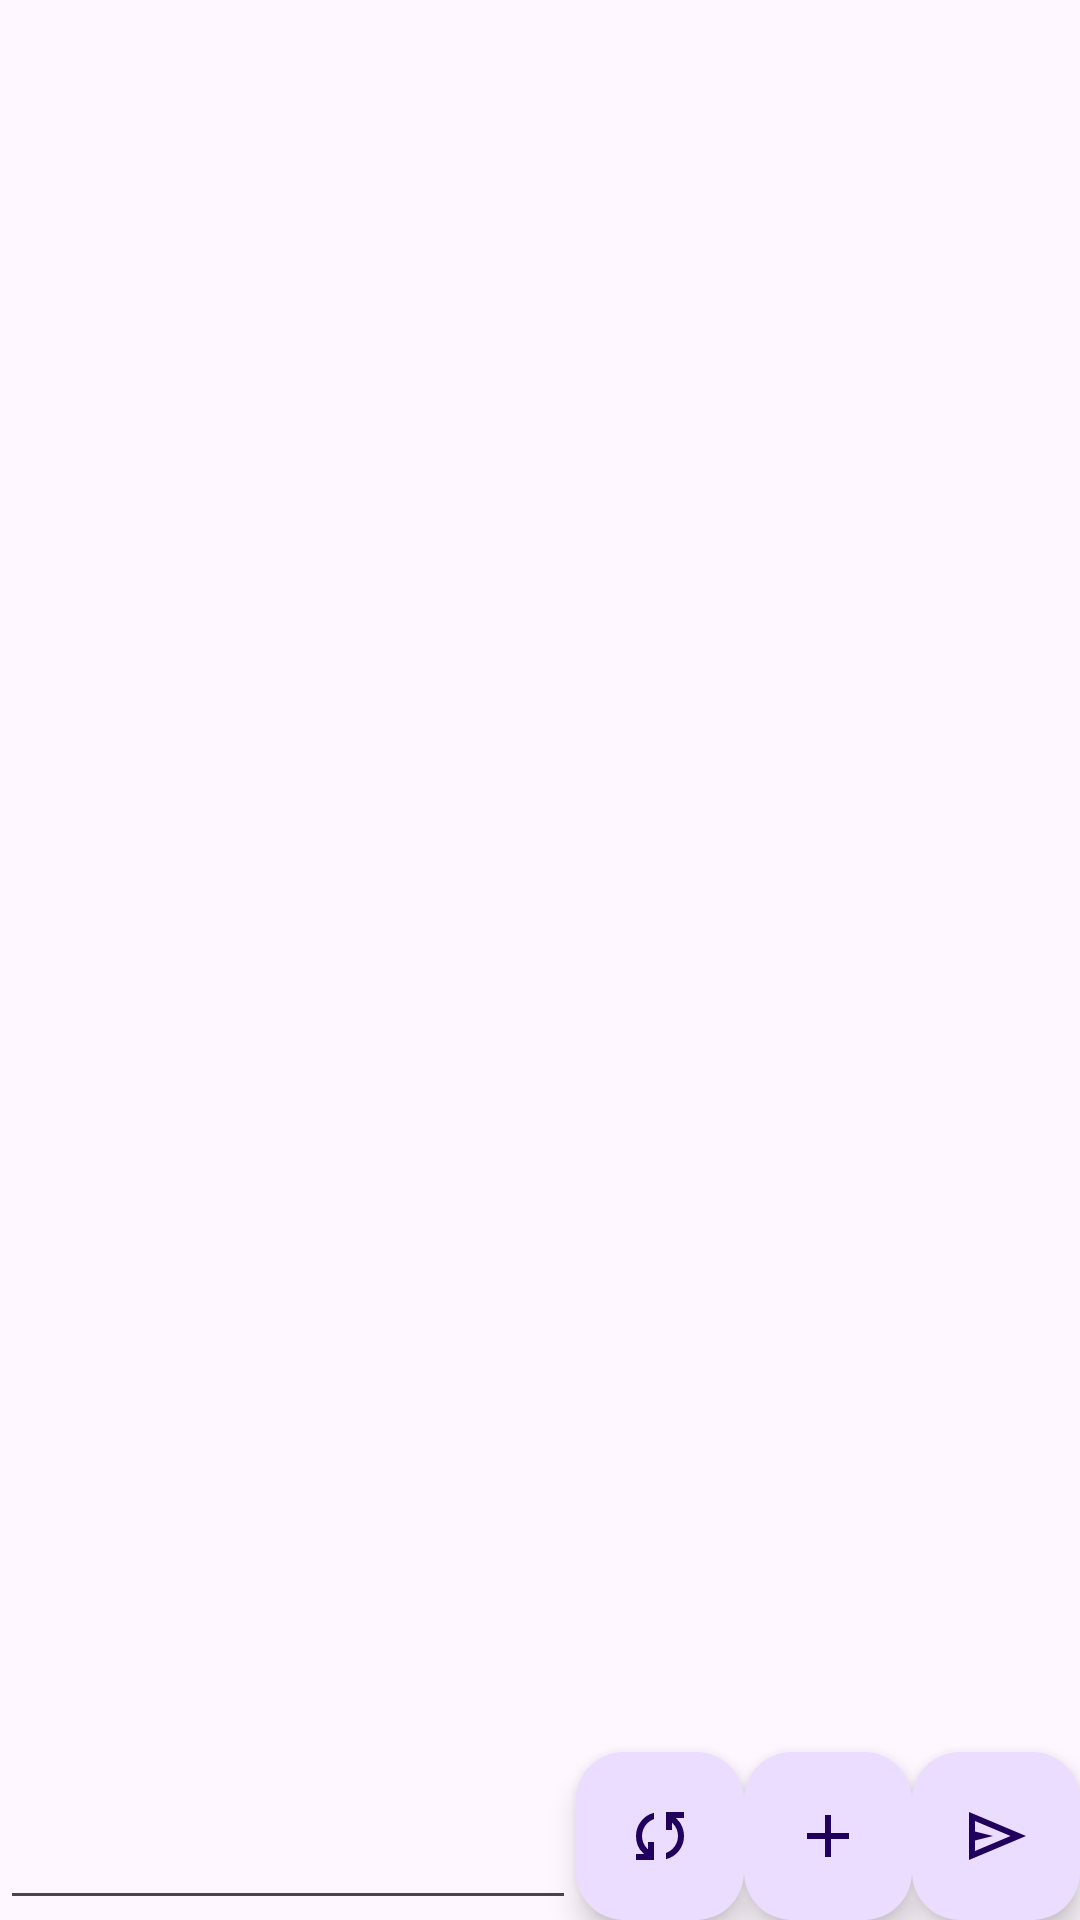

Screen size 1080x1920. Icon name, then its box in pixels as (x1, y1, x2, y2):
add: (744, 1752, 912, 1920)
send: (912, 1752, 1080, 1920)
update: (576, 1752, 744, 1920)
